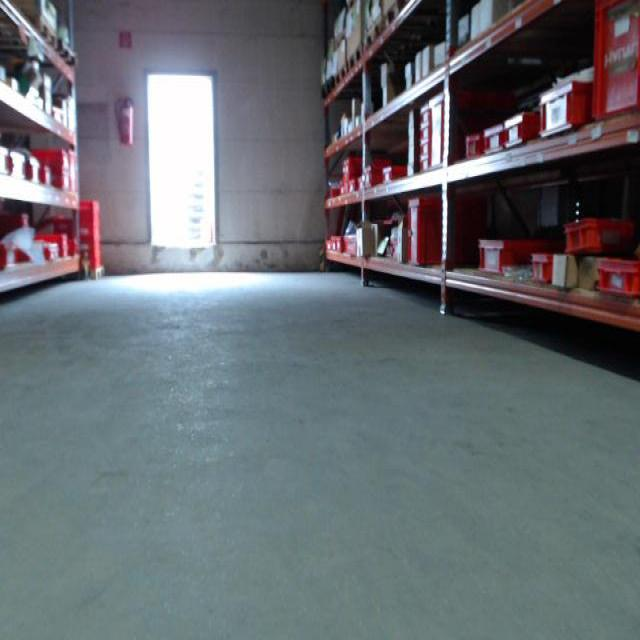pallet: (25, 13, 57, 49), (384, 2, 411, 28), (364, 20, 383, 52), (348, 44, 364, 70), (332, 66, 347, 88)
small_load_carrier: (585, 4, 639, 128), (429, 83, 484, 176), (525, 75, 587, 141), (406, 197, 464, 267), (475, 238, 553, 276), (562, 217, 636, 253), (593, 252, 638, 299), (499, 101, 535, 154), (25, 150, 68, 178), (474, 120, 500, 161), (32, 230, 73, 255), (528, 252, 555, 282), (41, 176, 67, 200), (467, 132, 488, 160), (384, 160, 405, 188), (415, 153, 437, 176), (417, 121, 438, 140), (416, 105, 437, 121), (417, 140, 437, 153)
